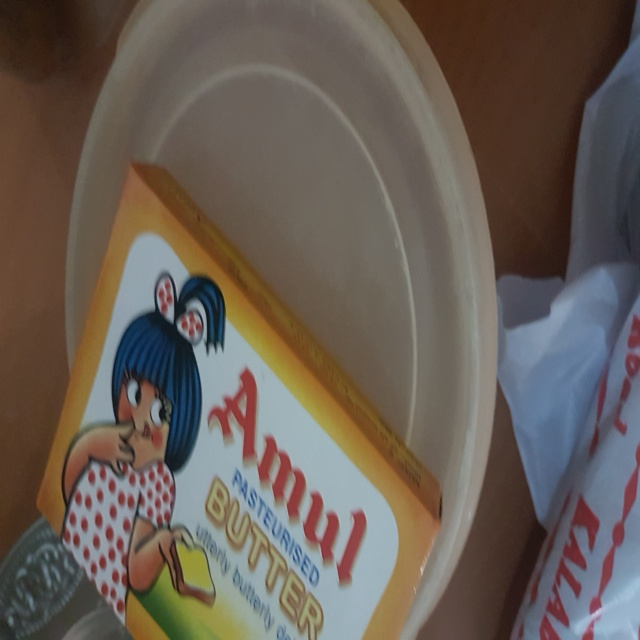butter: (29, 165, 461, 640)
